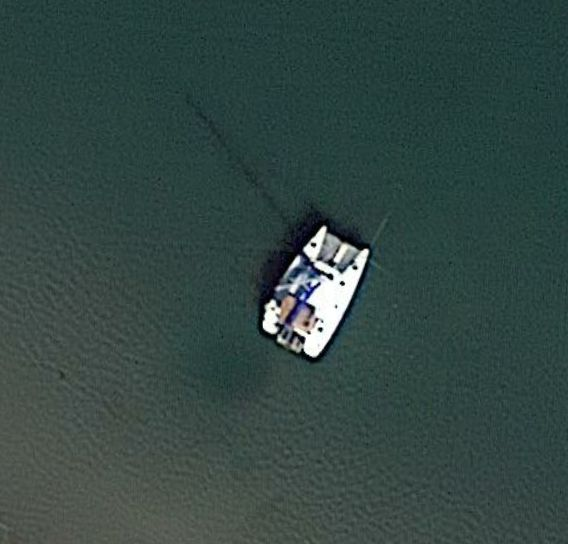boat: (256, 223, 375, 361)
